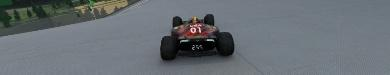Car: (159, 13, 234, 60)
Tree: (13, 9, 21, 21)
obstacles-Borders: (0, 0, 130, 38)
